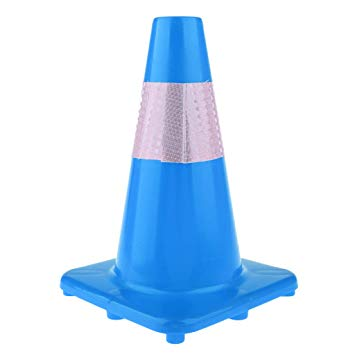cone: (56, 15, 307, 345)
